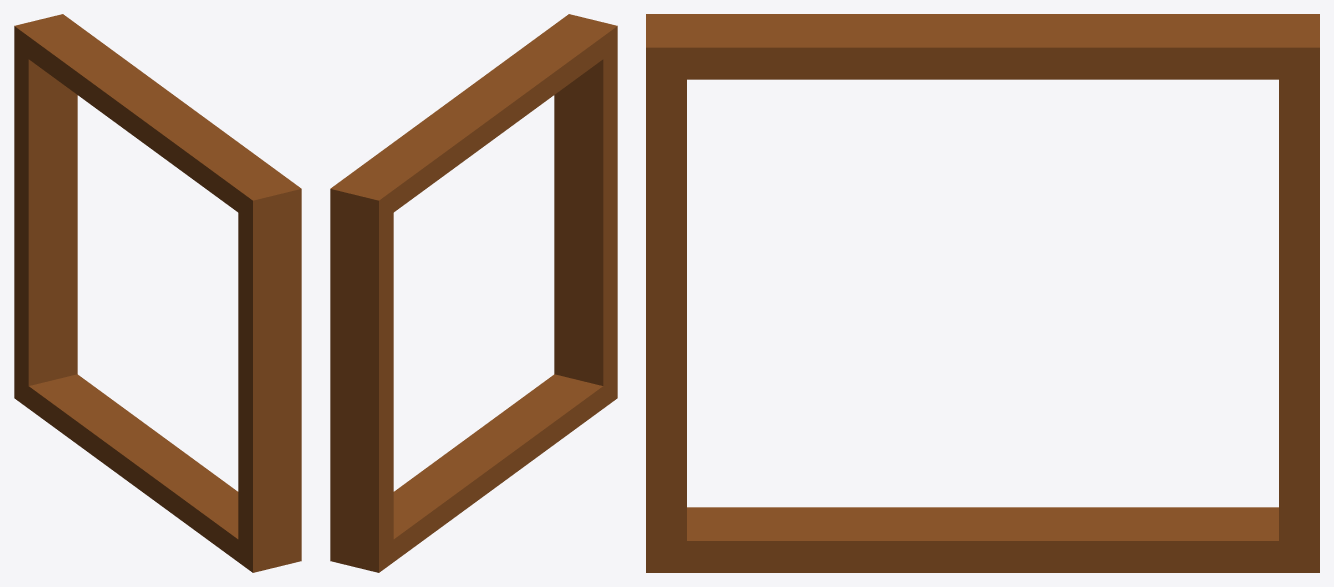
File: frame.fbx
The picture shows the model from 3 angles, left to right: view 1: azimuth 30°, elevation 25°; view 2: azimuth 150°, elevation 25°; view 3: azimuth 270°, elevation 25°; orthographic projection. The views are drawn at different scales.
Parts seen in each view (by area): view 1: frame; view 2: frame; view 3: frame.
Part boxes in pixels (x1,y1,x2,y2): frame: (14,14,301,572); frame: (330,14,617,572); frame: (646,14,1319,572).
Bounding box in the file's own units: 0.1523 × 1.11 × 1.29.
